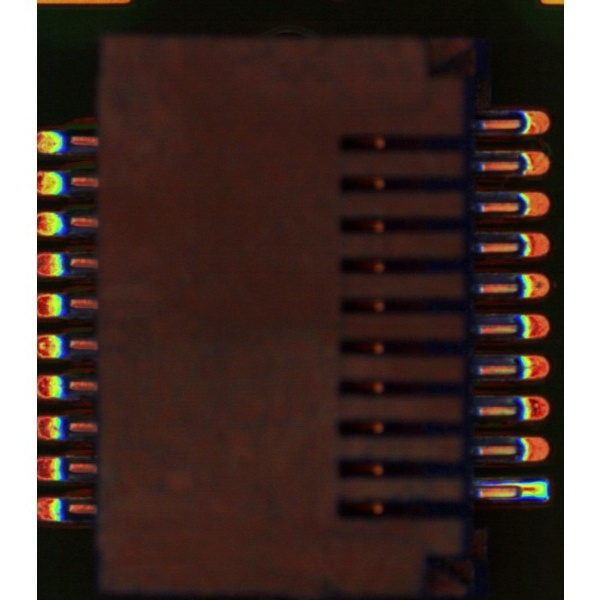Bad_qiaojiao: (478, 481, 518, 487)
